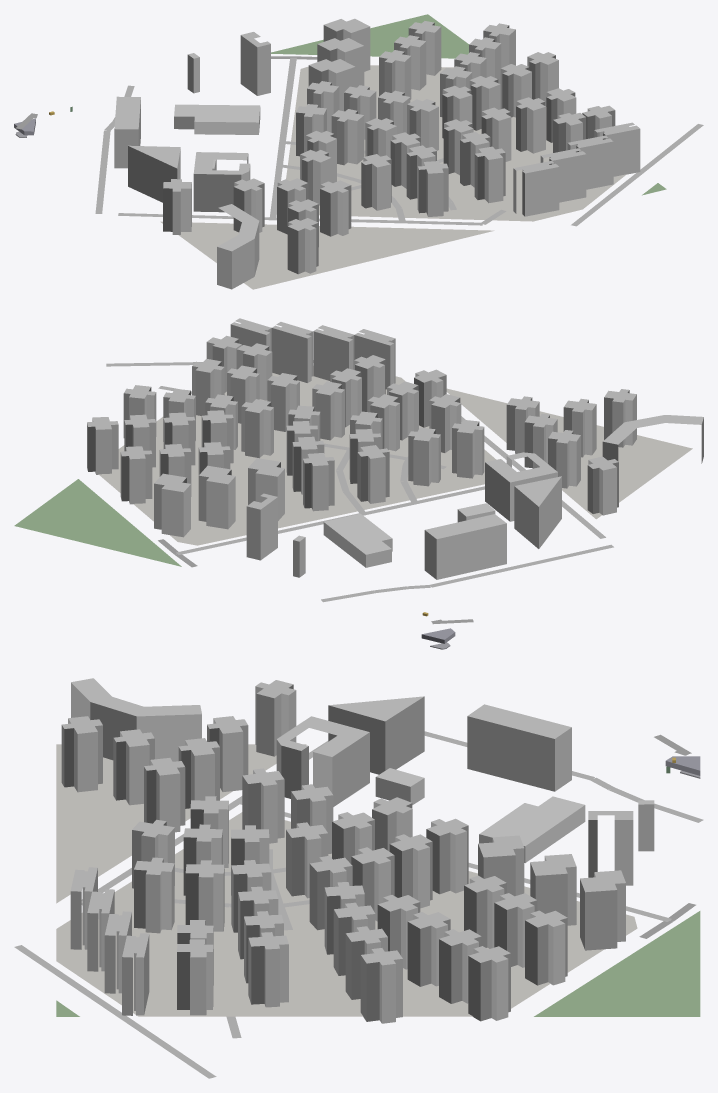
3 renders of one model, top to bottom at view 1: azimuth 30°, elevation 25°; view 2: azimuth 150°, elevation 25°; view 3: azimuth 270°, elevation 25°, orthographic. The views are drawn at different scales.
Bounding box in the file's own units: 663 × 78.17 × 536.
